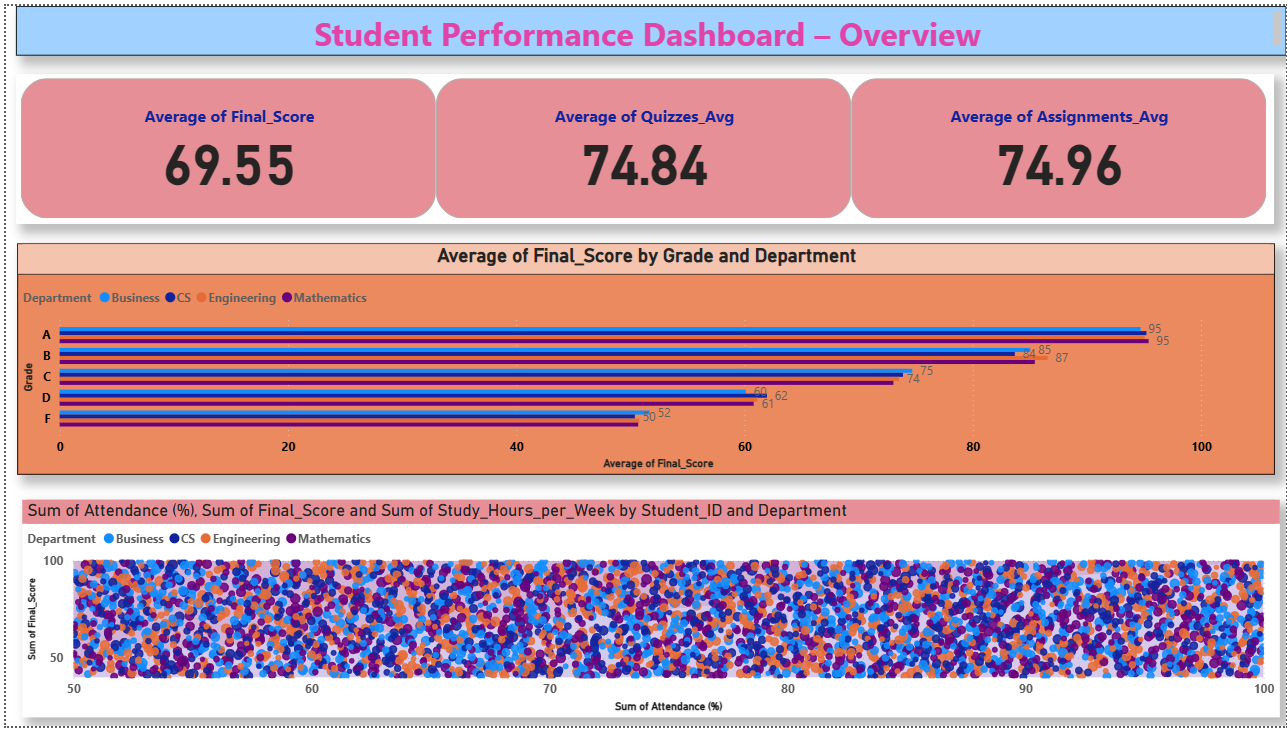

The page's visual inventory and layout, read from the dashboard file:
{"tool":"powerbi","page":{"name":"DashBoard 1","canvas":[1280,720],"ordinal":0},"visuals":[{"type":"textbox","box":[9.6,0,1270.7,49.4],"z":0},{"type":"cardVisual","fields":{"Data":["Avg(Students Performance Dataset.Final_Score)","Avg(Students Performance Dataset.Quizzes_Avg)","Avg(Students Performance Dataset.Assignments_Avg)"]},"box":[10,67.5,1257.5,150],"z":1000},{"type":"clusteredBarChart","fields":{"Category":["Students Performance Dataset.Grade"],"Y":["Avg(Students Performance Dataset.Final_Score)"],"Series":["Students Performance Dataset.Department"]},"box":[11.2,237.5,1257.5,231.2],"z":2000},{"type":"scatterChart","fields":{"X":["Sum(Students Performance Dataset.Attendance (%))"],"Y":["Sum(Students Performance Dataset.Final_Score)"],"Category":["Students Performance Dataset.Student_ID"],"Series":["Students Performance Dataset.Department"],"Size":["Sum(Students Performance Dataset.Study_Hours_per_Week)"]},"box":[16.2,493.8,1257.5,217.5],"z":3000}]}

Visuals, with their boxes in screenshot pixels (x1, y1, x2, y2), scaled from the page's 1280x720 canvas onto the 1287x739 screenshot:
textbox: bbox=(10, 0, 1286, 51)
cardVisual - Avg(Students Performance Dataset.Final_Score) x Avg(Students Performance Dataset.Quizzes_Avg): bbox=(10, 69, 1274, 223)
clusteredBarChart - Students Performance Dataset.Grade x Avg(Students Performance Dataset.Final_Score): bbox=(11, 244, 1276, 481)
scatterChart - Sum(Students Performance Dataset.Attendance (%)) x Sum(Students Performance Dataset.Final_Score): bbox=(16, 507, 1281, 730)
